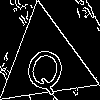Q: (21, 37, 72, 98)
